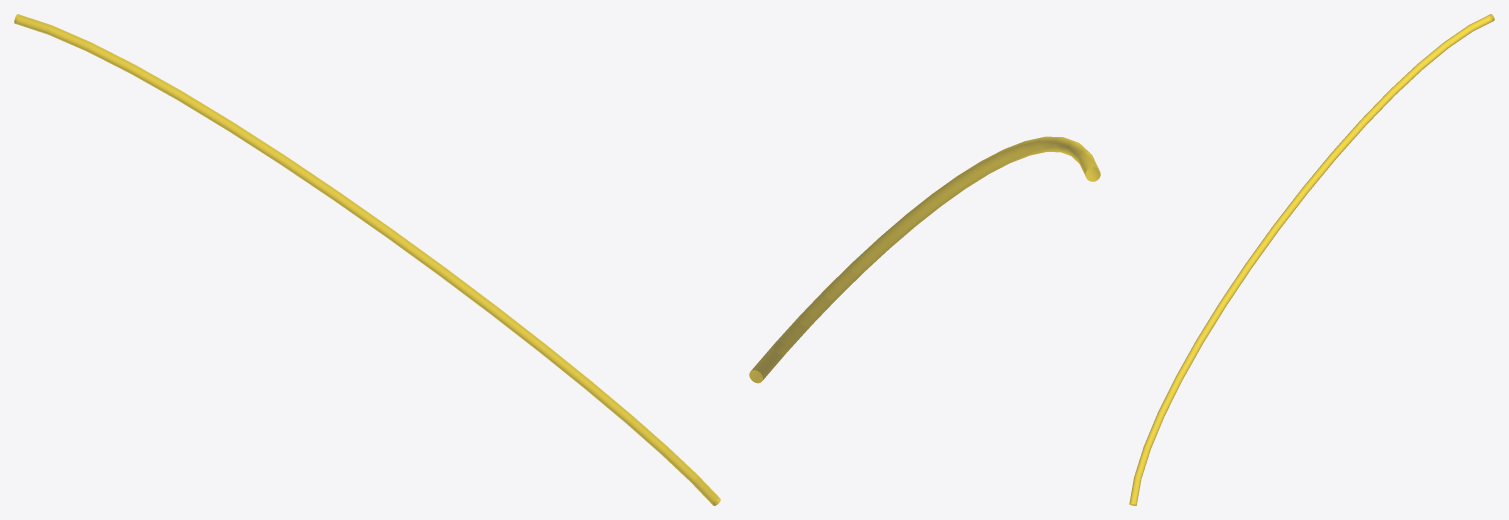
File: Event_31209032_track_2.fbx
3 views of the same model, side by side, from view 1: azimuth 30°, elevation 25°; view 2: azimuth 150°, elevation 25°; view 3: azimuth 270°, elevation 25° (orthographic). The views are drawn at different scales.
Parts seen in each view (by area): view 1: Model; view 2: Model; view 3: Model.
Boxes of the visible parts, <box> form: Model: <box>14,14,720,505</box>; Model: <box>749,136,1100,383</box>; Model: <box>1129,14,1494,505</box>.
Size of the model in its own units: 2.13 by 1.86 by 1.91.
